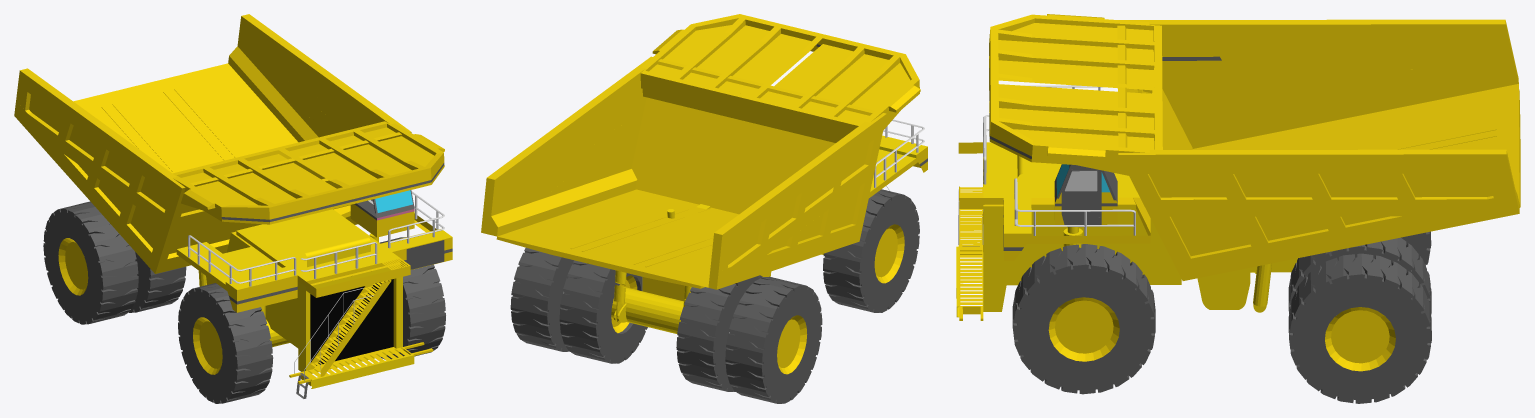
Rendered from truck_empty_draco.glb.
The picture shows the model from 3 angles, left to right: view 1: azimuth 30°, elevation 25°; view 2: azimuth 150°, elevation 25°; view 3: azimuth 270°, elevation 25°; orthographic projection. The views are drawn at different scales.
Visible parts, largest first — view 1: Model, Group4; view 2: Model, Group4; view 3: Model, Group4, Group1, 1_in_Lg3.
Part boxes in pixels (box(x1,y1,x2,y2)): Model: box(14, 14, 452, 403); Group4: box(181, 127, 434, 205); Model: box(481, 14, 927, 403); Group4: box(649, 25, 910, 122); Model: box(956, 14, 1520, 403); Group4: box(998, 23, 1154, 149); Group1: box(1064, 170, 1098, 191); 1_in_Lg3: box(1253, 263, 1271, 306).
Bounding box in the file's own units: 6.5 × 5.45 × 10.79.
